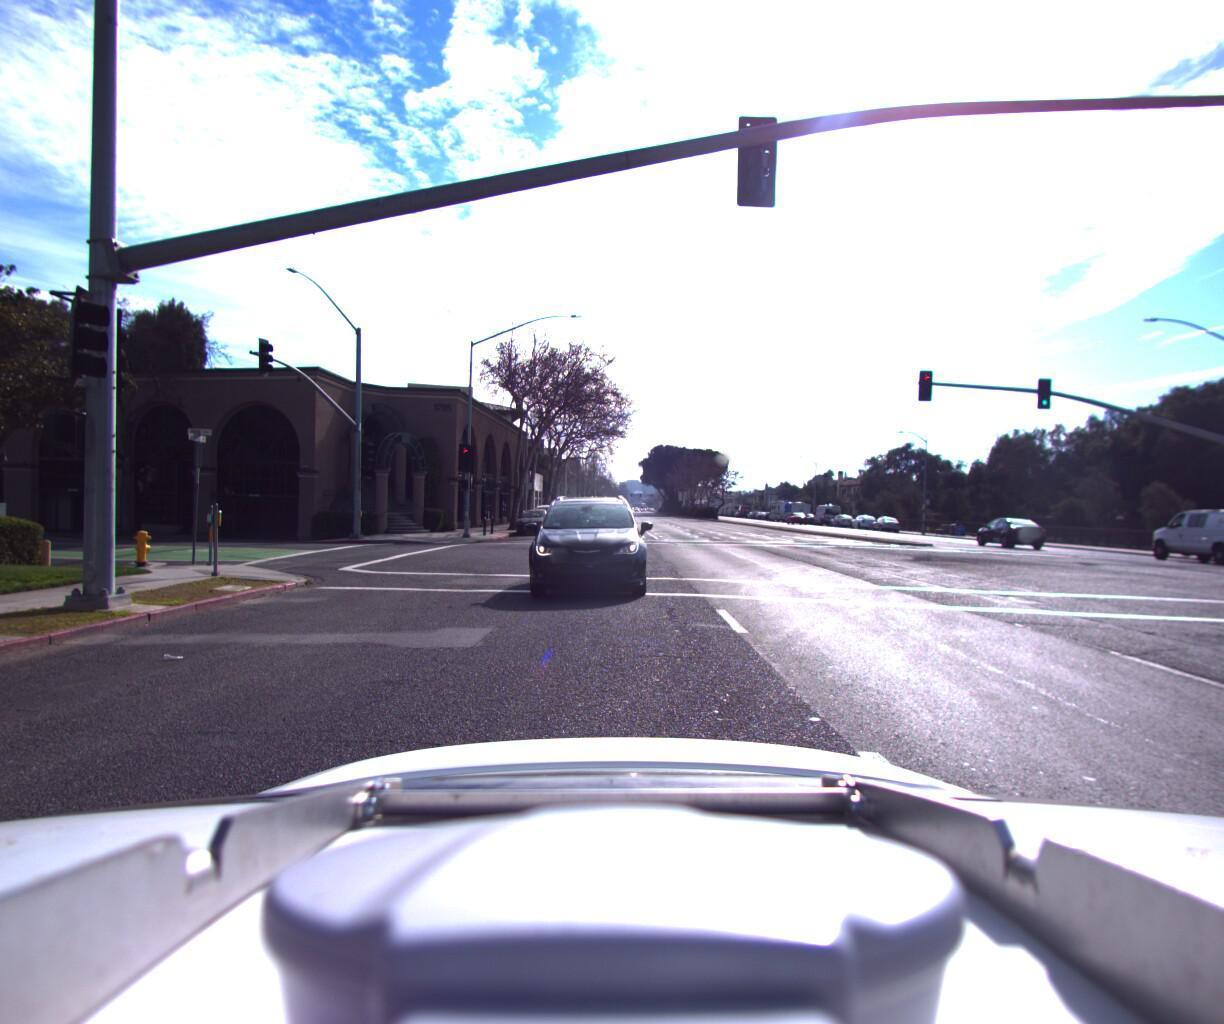car: (519, 485, 648, 601), (1127, 504, 1224, 563), (959, 511, 1044, 545), (521, 503, 555, 534), (530, 499, 565, 528), (848, 510, 881, 528), (870, 511, 902, 530)
